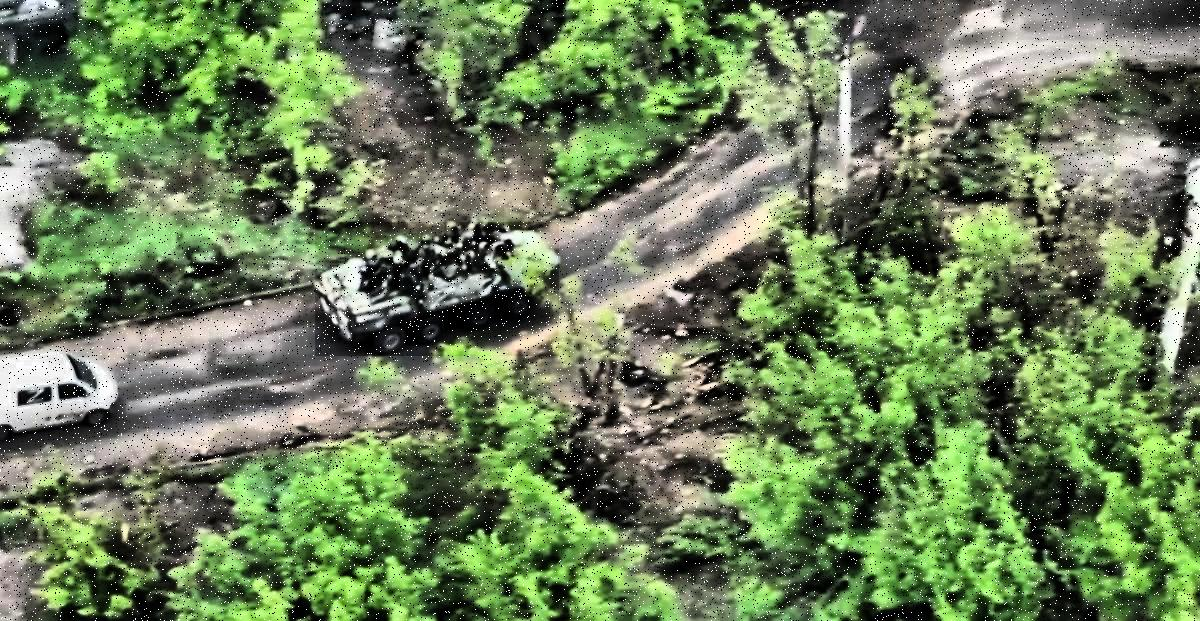military-vehicle: (315, 222, 559, 356)
